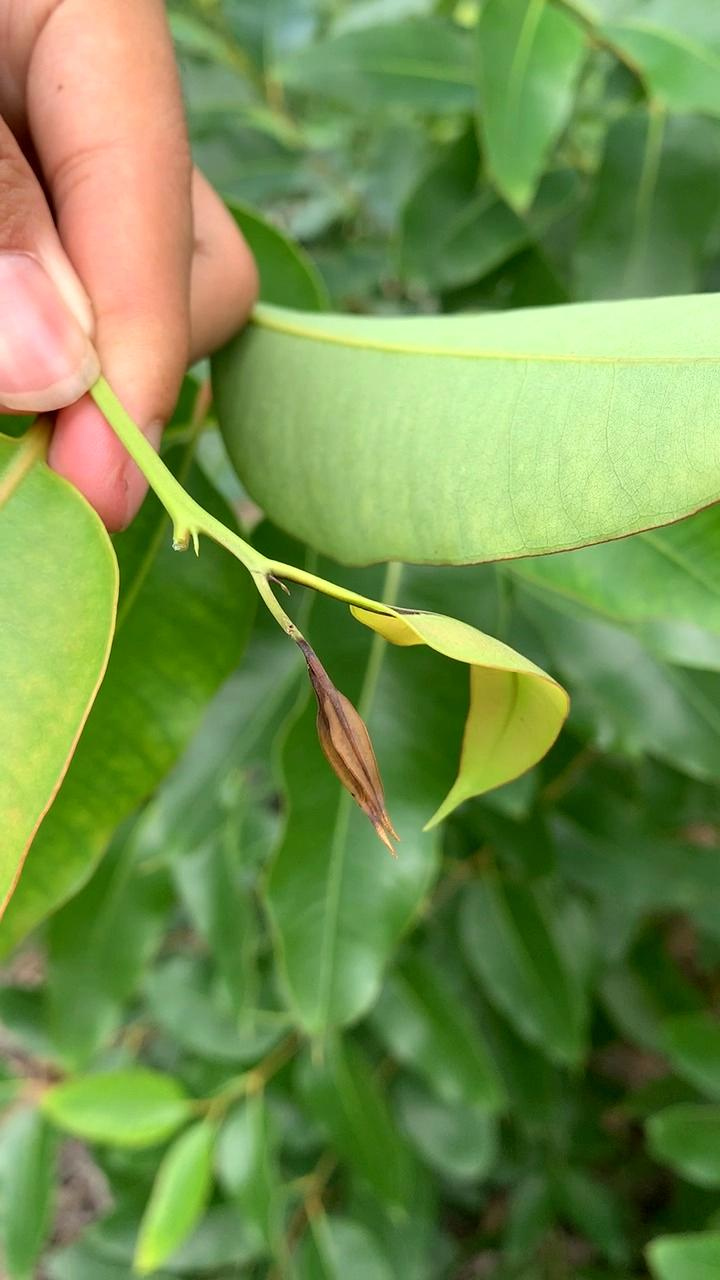Helopeltis-Withered Sprout: (276, 618, 419, 859)
